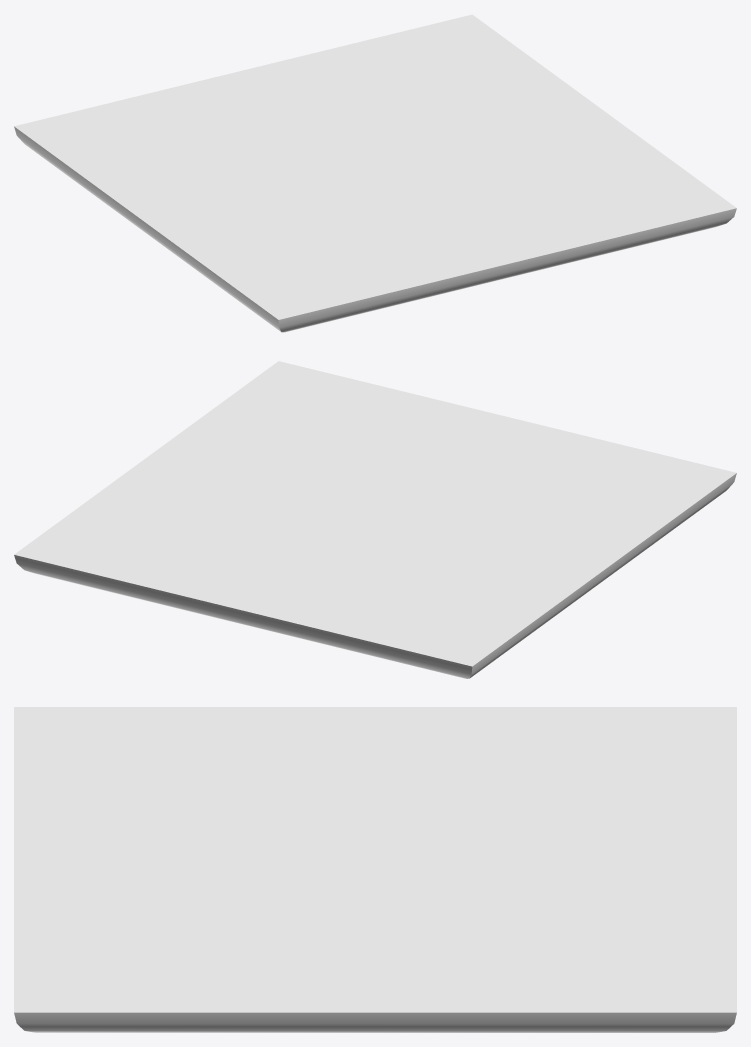
Rendered from air.fbx.
3 views of the same model, one above another, from view 1: azimuth 30°, elevation 25°; view 2: azimuth 150°, elevation 25°; view 3: azimuth 270°, elevation 25° (orthographic). The views are drawn at different scales.
Parts seen in each view (by area): view 1: air1; view 2: air1; view 3: air1.
Part boxes in pixels (<box>): air1: <box>14,14,736,332</box>; air1: <box>14,361,736,678</box>; air1: <box>14,707,736,1032</box>.
Bounding box in the file's own units: 0.0374 × 0.00224 × 0.0374.
2 materials, 1 textured.
